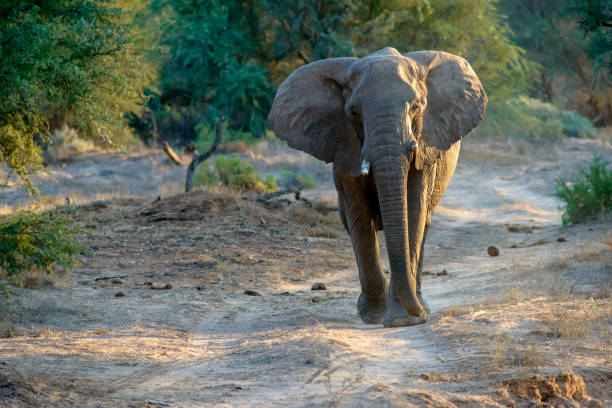africanelephant: (325, 59, 439, 219)
